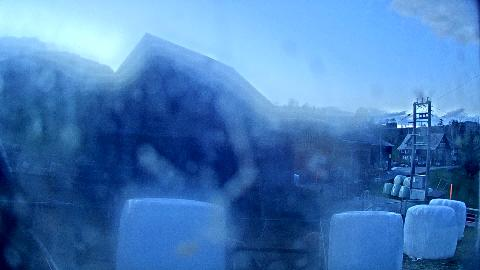car: (418, 162, 426, 166)
sheep: (66, 180, 118, 220), (226, 238, 264, 270), (304, 232, 328, 266)
